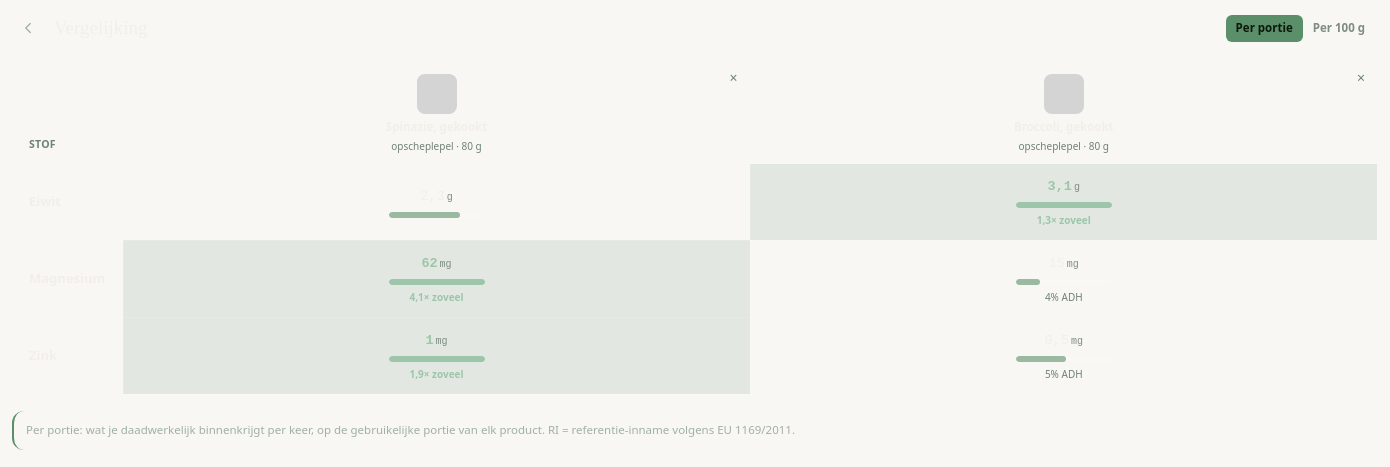
Test: DagboekVergelijkTabel › schakelt naar per 100 g
The image size is (1390, 467).
Click the radio button labelled "Per 100 g": point(1339, 28) x1=1303 y1=15 x2=1375 y2=42
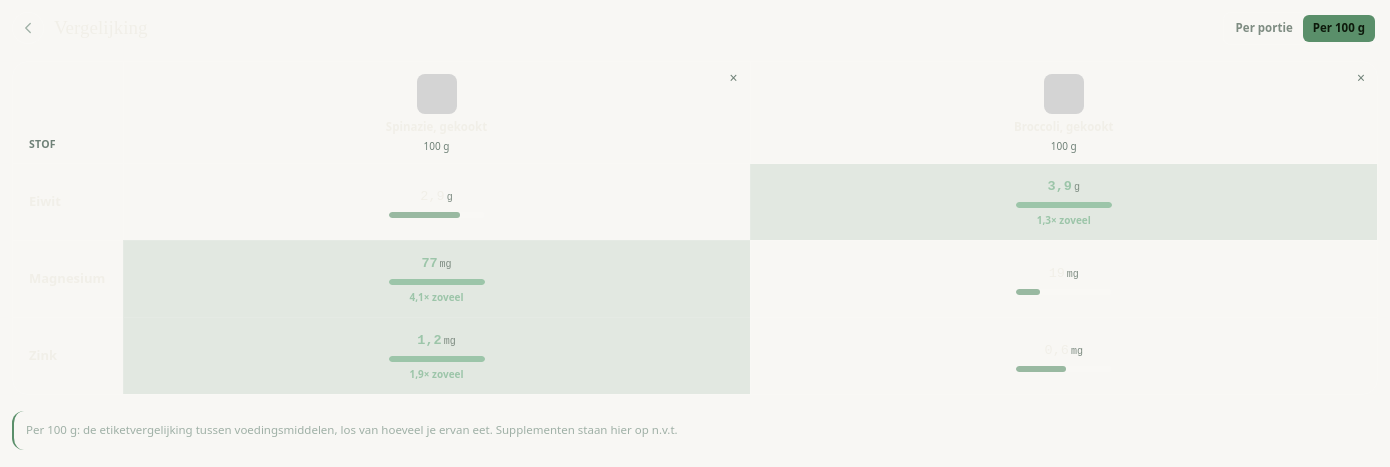
Check: the text "77" is shown, box x1=421 y1=256 x2=438 y2=271
